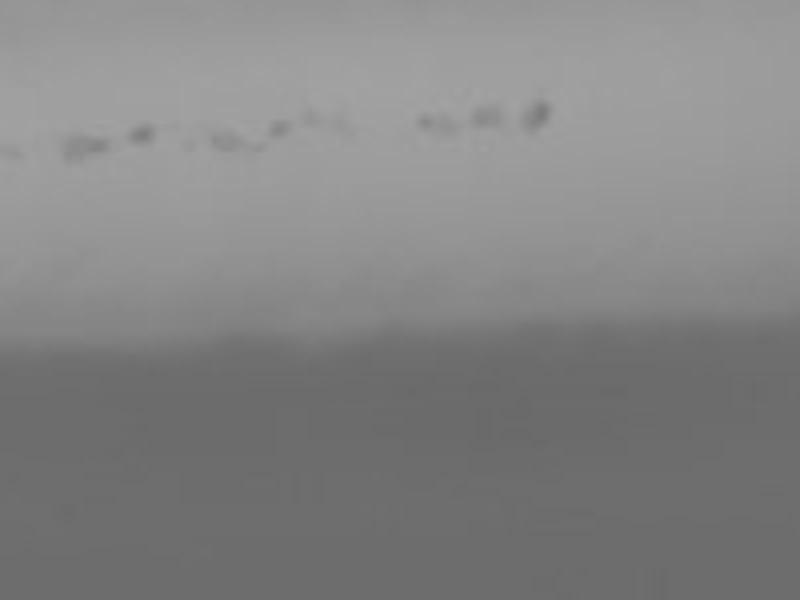defect: (415, 112, 461, 145), (64, 128, 109, 159), (519, 98, 554, 135), (206, 121, 249, 151), (125, 119, 157, 149), (472, 102, 504, 127), (329, 119, 358, 143), (265, 117, 293, 139), (178, 125, 199, 154), (4, 142, 25, 169), (306, 107, 324, 127), (251, 136, 268, 155)
